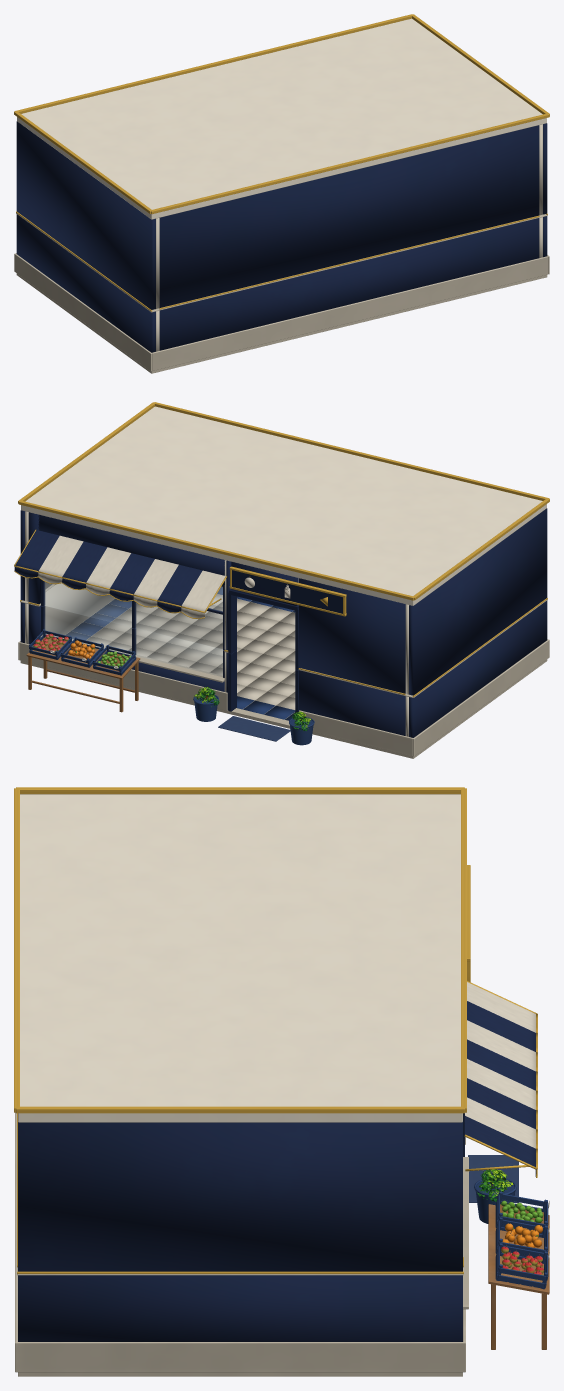
Rendered from Era4_Spati.fbx.
The picture shows the model from 3 angles, top to bottom: view 1: azimuth 30°, elevation 25°; view 2: azimuth 150°, elevation 25°; view 3: azimuth 270°, elevation 25°; orthographic projection. The views are drawn at different scales.
Visible parts, largest first — view 1: CUT_ERA4_FacadeTop, ERA4_Facade; view 2: CUT_ERA4_FacadeTop, ERA4_Facade, CUT_ERA4_Awning, CUT_ERA4_Glass_winTop, ERA4_Glass_win, ERA4_Table, CUT_ERA4_Sign; view 3: CUT_ERA4_FacadeTop, ERA4_Facade, CUT_ERA4_Awning, ERA4_Table.
Part boxes in pixels (x1,y1,x2,y2): CUT_ERA4_FacadeTop: (14,14,549,309); ERA4_Facade: (14,211,549,373); CUT_ERA4_FacadeTop: (18,402,549,695); ERA4_Facade: (18,583,549,758); CUT_ERA4_Awning: (14,529,226,619); CUT_ERA4_Glass_winTop: (44,582,222,648); ERA4_Glass_win: (44,606,222,676); ERA4_Table: (26,629,140,712); CUT_ERA4_Sign: (229,566,346,616); CUT_ERA4_FacadeTop: (14,787,466,1271); ERA4_Facade: (15,1112,518,1376); CUT_ERA4_Awning: (464,981,537,1177); ERA4_Table: (488,1191,549,1349).
Size of the model in its own units: 7.48 by 2.92 by 5.27.
2 materials, 1 textured.
